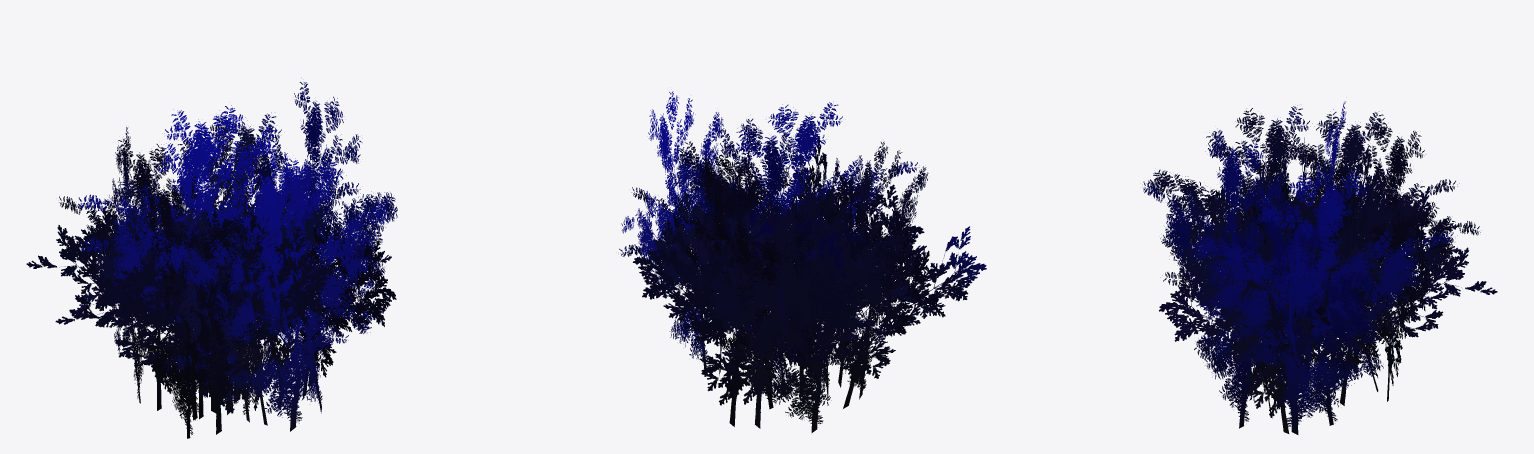
File: SM_Foliage_ShrubTallA_05.fbx
3 renders of one model, left to right at view 1: azimuth 30°, elevation 25°; view 2: azimuth 150°, elevation 25°; view 3: azimuth 270°, elevation 25°, orthographic.
Parts seen in each view (by area): view 1: SM_Foliage_ShrubTallA_05; view 2: SM_Foliage_ShrubTallA_05; view 3: SM_Foliage_ShrubTallA_05.
Boxes of the visible parts, x1,y1,x2,y2 form: SM_Foliage_ShrubTallA_05: [26, 82, 397, 438]; SM_Foliage_ShrubTallA_05: [619, 91, 986, 432]; SM_Foliage_ShrubTallA_05: [1143, 101, 1497, 434].
Bounding box in the file's own units: 347 × 351 × 259.
